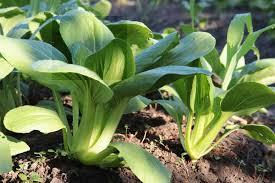Healthy-Pechay: (3, 6, 215, 108), (212, 17, 275, 133), (103, 134, 181, 183), (3, 101, 71, 137)
